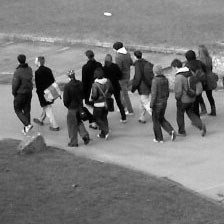person: (171, 57, 205, 137), (34, 55, 62, 132), (150, 64, 176, 145), (63, 69, 89, 147), (11, 53, 33, 135), (89, 67, 113, 141), (183, 49, 208, 117), (103, 53, 127, 123), (112, 41, 134, 117), (131, 50, 153, 124), (197, 44, 218, 118), (81, 49, 103, 107)
